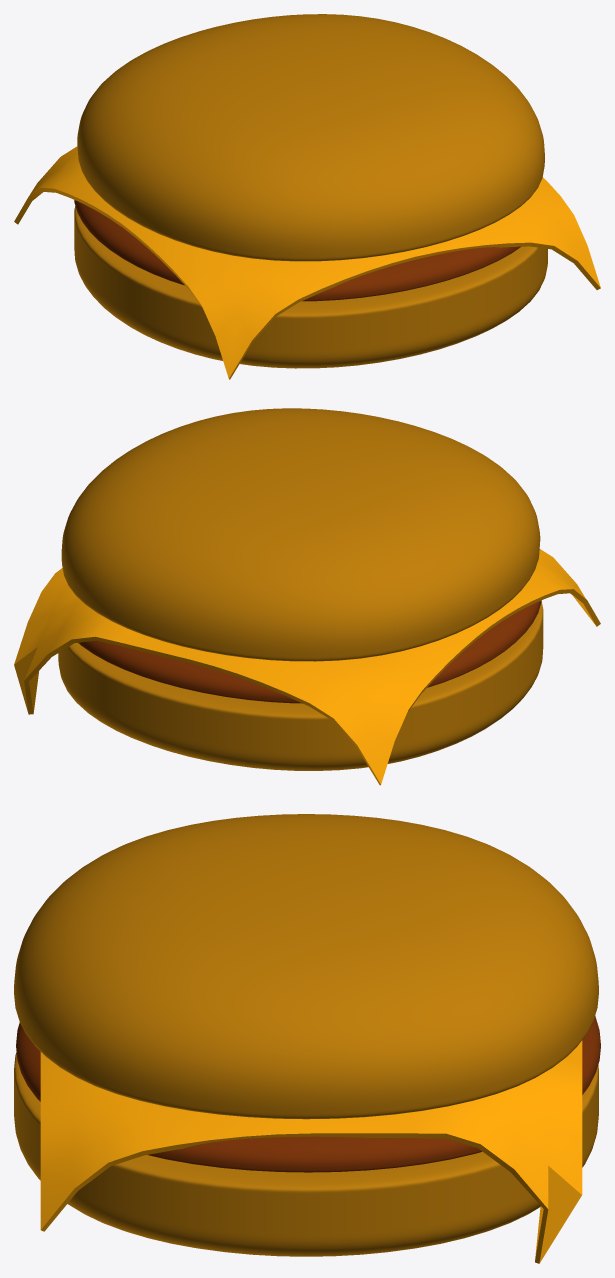
The model's file is hunburger.glb.
3 renders of one model, top to bottom at view 1: azimuth 30°, elevation 25°; view 2: azimuth 150°, elevation 25°; view 3: azimuth 270°, elevation 25°, orthographic. The views are drawn at different scales.
Parts seen in each view (by area): view 1: Cube.003, Cube.001, Plane, Cube.002; view 2: Cube.003, Cube.001, Plane, Cube.002; view 3: Cube.003, Cube.001, Plane, Cube.002.
Part boxes in pixels (x1,y1,x2,y2): Cube.003: (77, 14, 544, 261); Cube.001: (74, 206, 547, 368); Plane: (14, 146, 600, 379); Cube.002: (74, 200, 520, 301); Cube.003: (61, 408, 540, 661); Cube.001: (58, 602, 543, 770); Plane: (14, 549, 600, 785); Cube.002: (78, 600, 541, 703); Cube.003: (14, 814, 598, 1119); Cube.001: (14, 1052, 598, 1256); Plane: (40, 1040, 582, 1263); Cube.002: (16, 1016, 600, 1172).
Bounding box in the file's own units: 7.27 × 3.88 × 7.29.
